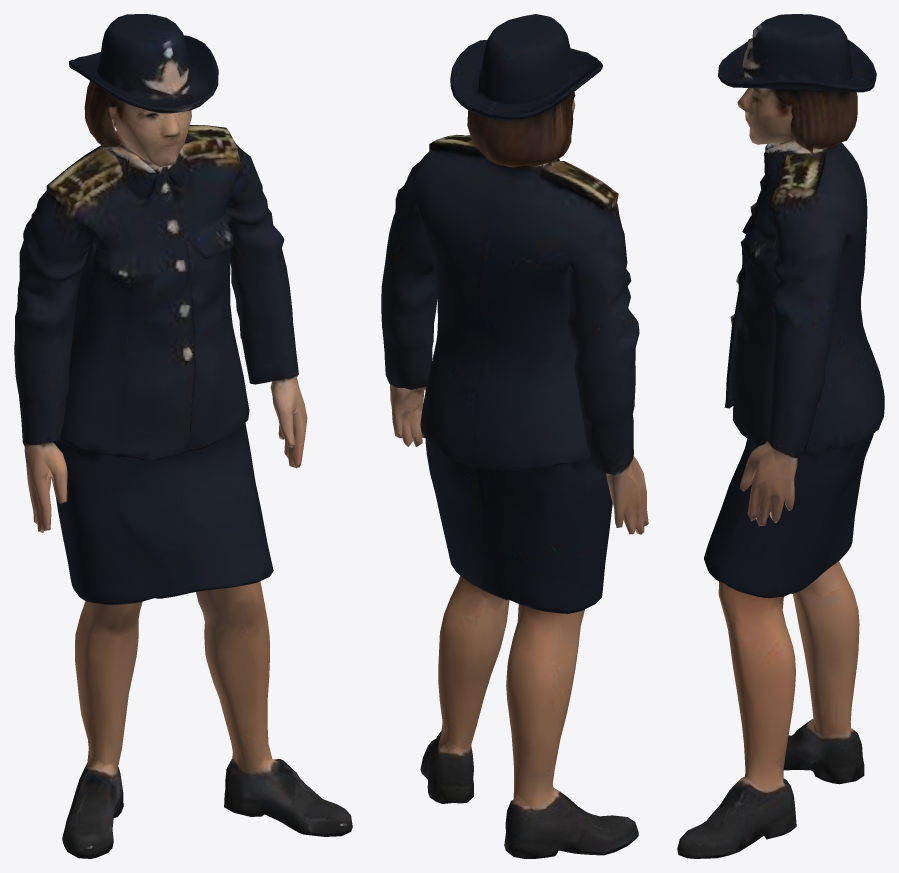
The model's file is polwan_latin_idle.glb.
The picture shows the model from 3 angles, left to right: view 1: azimuth 30°, elevation 25°; view 2: azimuth 150°, elevation 25°; view 3: azimuth 270°, elevation 25°; orthographic projection. The views are drawn at different scales.
Visible parts, largest first — view 1: tripo_node_0ce62e98-1a4d-41dc-bd50-baec2bcfa5f2; view 2: tripo_node_0ce62e98-1a4d-41dc-bd50-baec2bcfa5f2; view 3: tripo_node_0ce62e98-1a4d-41dc-bd50-baec2bcfa5f2.
Boxes of the visible parts, box(x1,y1,x2,y2) form: tripo_node_0ce62e98-1a4d-41dc-bd50-baec2bcfa5f2: box(14, 14, 352, 858); tripo_node_0ce62e98-1a4d-41dc-bd50-baec2bcfa5f2: box(381, 14, 648, 858); tripo_node_0ce62e98-1a4d-41dc-bd50-baec2bcfa5f2: box(677, 14, 884, 858).
Size of the model in its own units: 35.15 by 100 by 24.51.
Materials: 1 (1 with a texture image).
